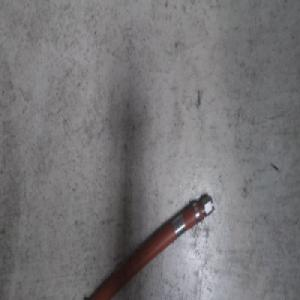Hose: (68, 190, 215, 300)
